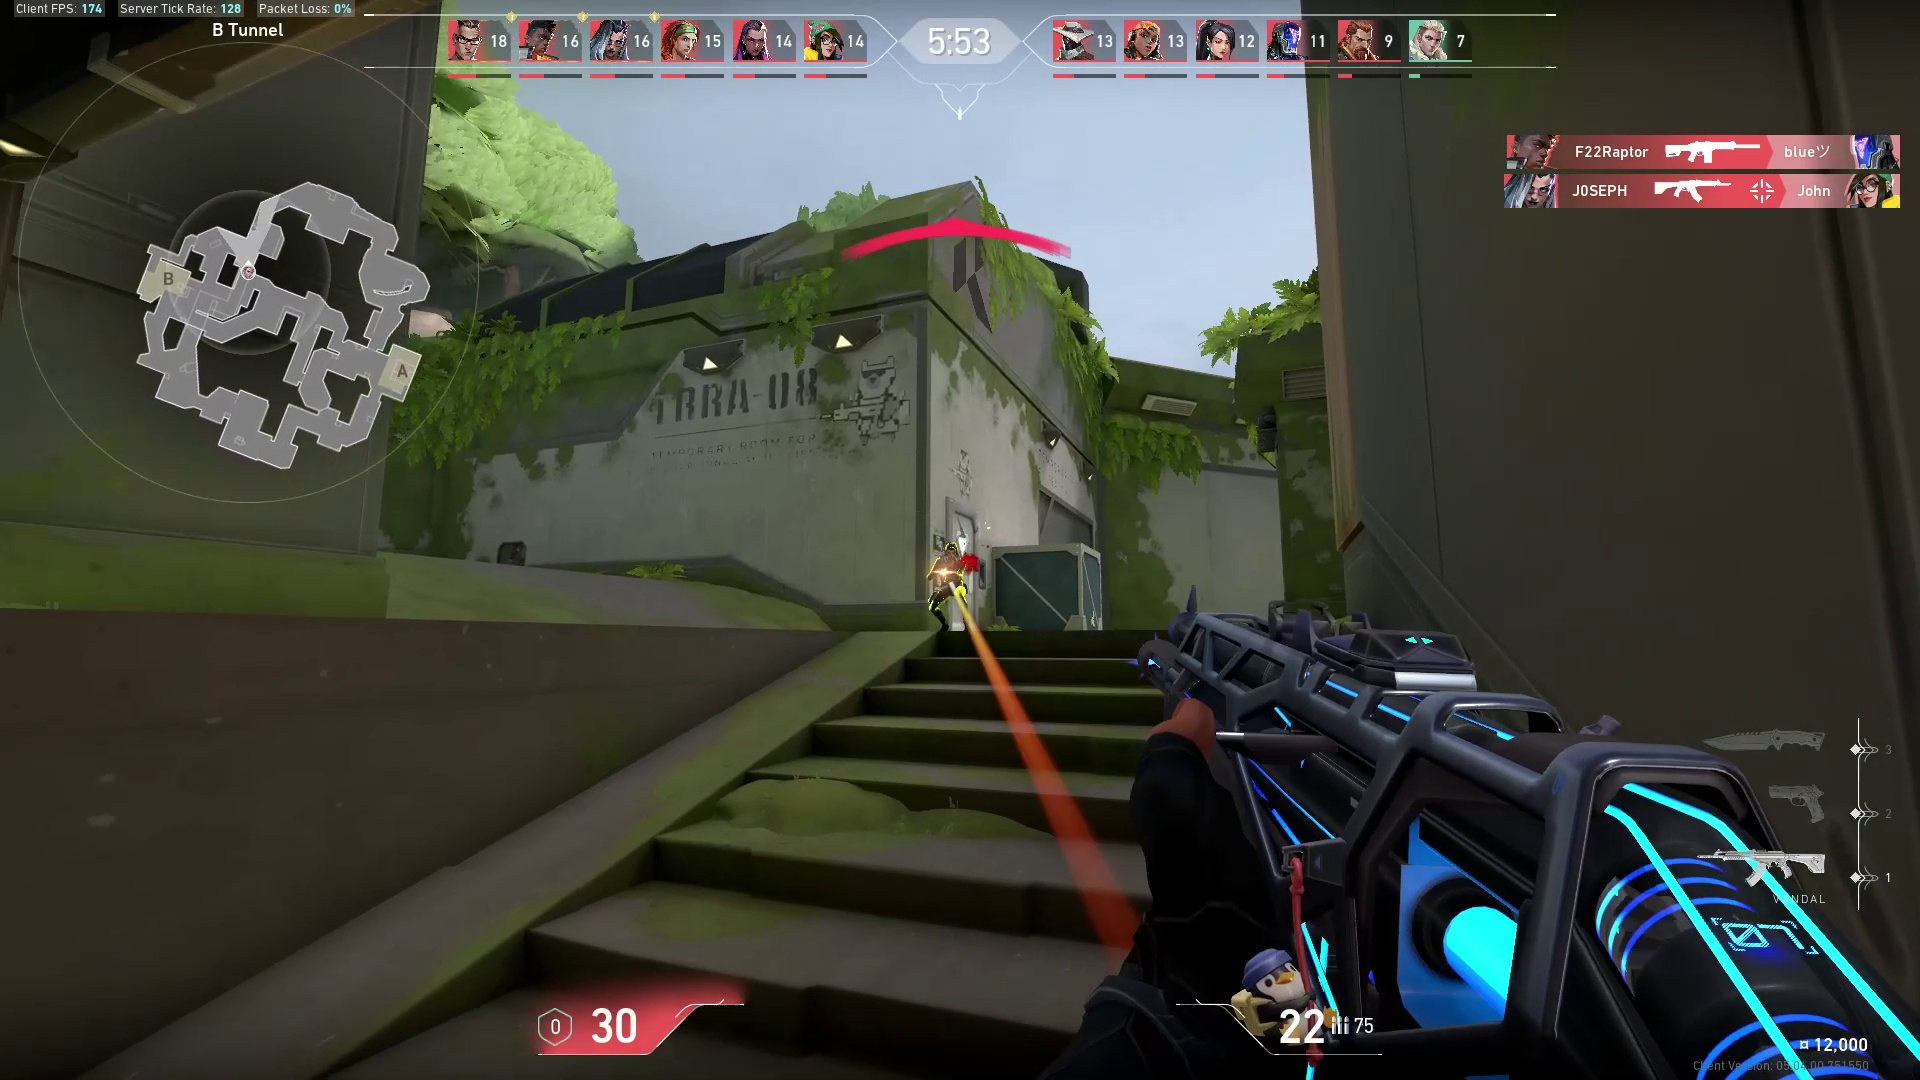enemy_body: (925, 561, 975, 635)
enemy_head: (940, 534, 964, 564)
